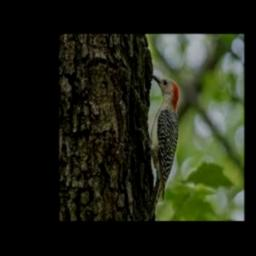Woodpecker: (135, 74, 179, 214)
